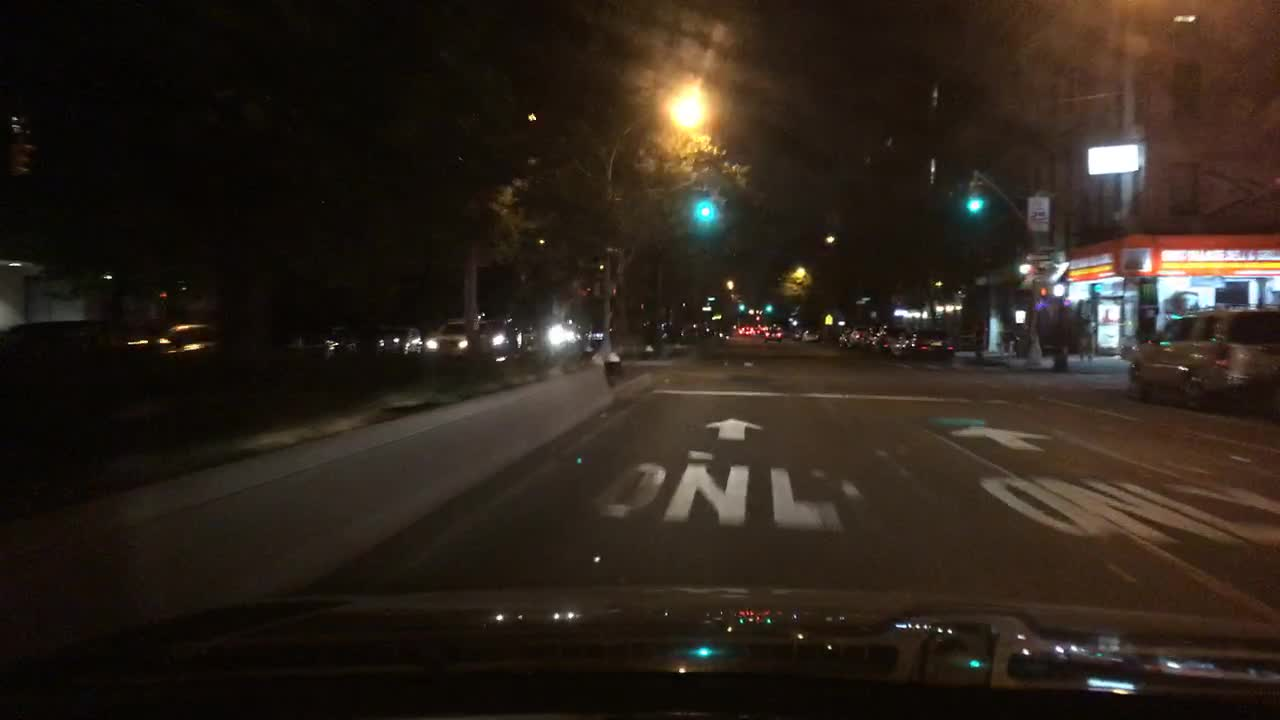car: (1126, 306, 1279, 409), (0, 322, 110, 371), (155, 324, 223, 356), (423, 321, 470, 359), (901, 328, 955, 361), (477, 319, 518, 353), (377, 326, 423, 353), (880, 326, 912, 352), (341, 329, 374, 353), (313, 337, 353, 356), (551, 325, 584, 344), (582, 329, 614, 343), (516, 326, 536, 346), (798, 328, 820, 344), (852, 334, 874, 349), (679, 326, 700, 340), (838, 328, 852, 349), (658, 324, 676, 340), (762, 329, 781, 344), (714, 326, 732, 341), (874, 326, 889, 344), (697, 324, 712, 338), (753, 324, 771, 335), (853, 326, 874, 335), (805, 324, 823, 332), (736, 324, 748, 335), (741, 325, 754, 335), (790, 329, 804, 338), (768, 322, 784, 329)
person: (1075, 315, 1096, 364), (1136, 307, 1156, 344), (1006, 329, 1015, 361), (997, 331, 1003, 358)
traffic light: (694, 198, 715, 223), (967, 183, 983, 213), (1036, 285, 1054, 300), (763, 303, 772, 318), (736, 301, 744, 315)
traffic sign: (1025, 196, 1048, 231), (1027, 252, 1054, 264), (822, 315, 834, 326), (789, 318, 801, 328), (700, 306, 712, 315), (703, 295, 715, 303)
